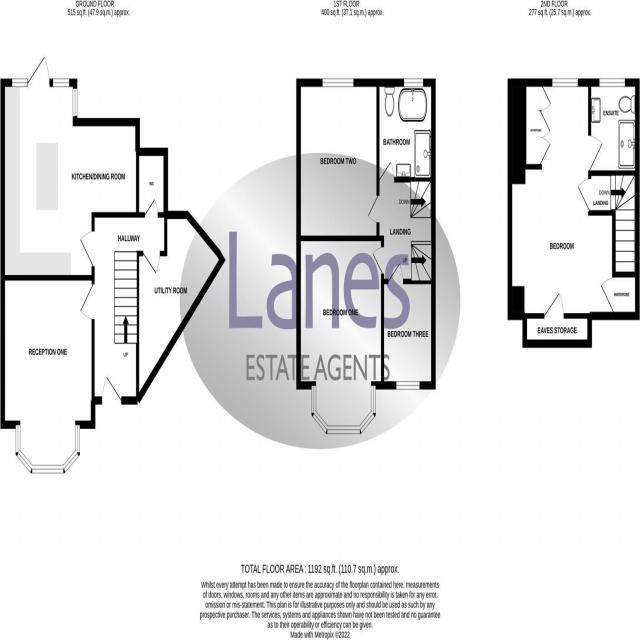DOOR: (27, 55, 50, 87), (79, 229, 95, 269), (101, 375, 122, 405), (79, 282, 95, 321), (588, 135, 603, 171), (577, 177, 592, 212), (142, 250, 161, 276), (387, 261, 404, 284), (378, 160, 395, 183), (367, 194, 380, 224), (372, 246, 384, 275), (144, 197, 158, 218)
ROOM: (507, 78, 640, 321), (0, 56, 140, 281), (0, 275, 96, 474), (296, 235, 384, 435), (296, 78, 380, 241), (381, 262, 436, 390)
WINDOW: (311, 384, 376, 436), (15, 424, 81, 475), (322, 78, 354, 88), (599, 77, 625, 87), (396, 380, 420, 390), (552, 78, 578, 87), (403, 78, 424, 88), (52, 78, 70, 88), (72, 88, 78, 117), (12, 78, 28, 87)
